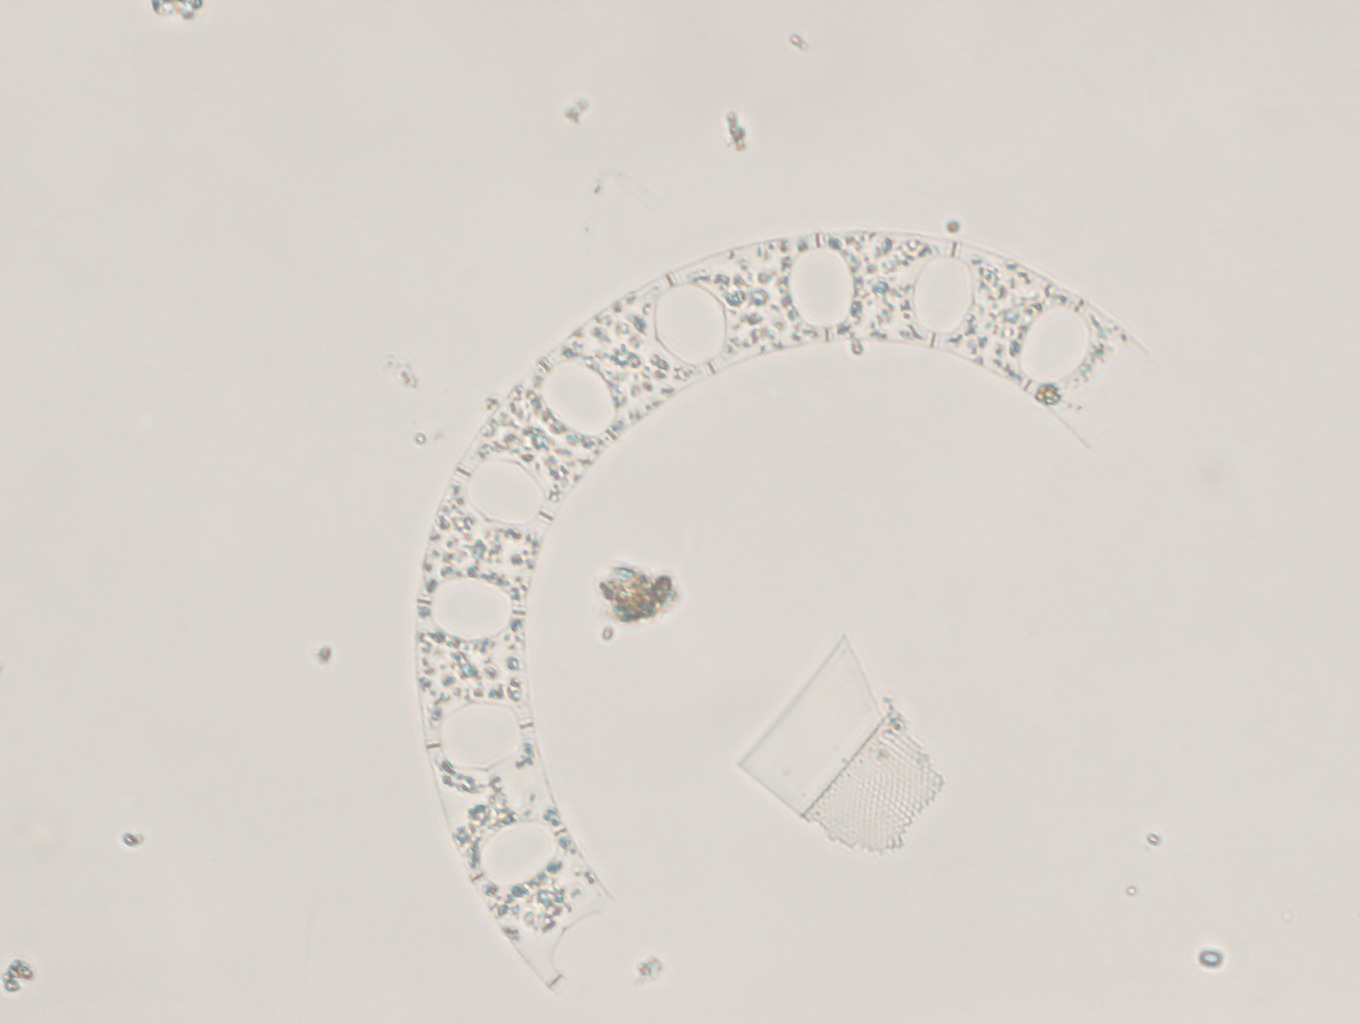eucampia: (411, 221, 1176, 1001)
